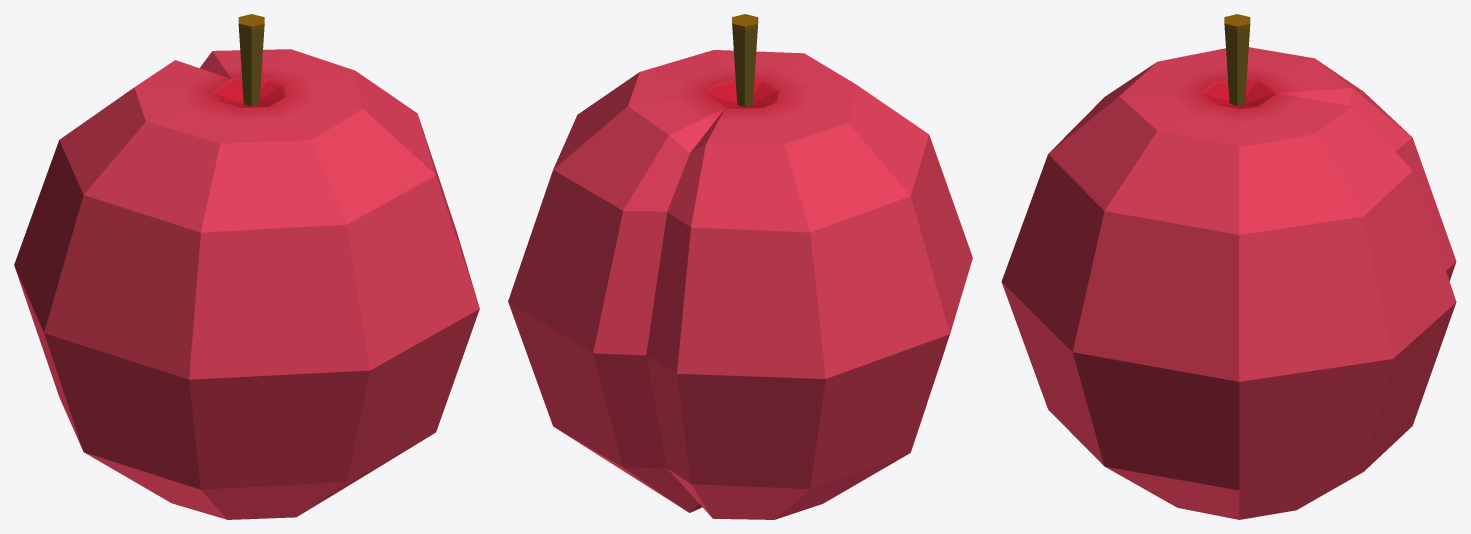
Rendered from Plum.fbx.
The picture shows the model from 3 angles, left to right: view 1: azimuth 30°, elevation 25°; view 2: azimuth 150°, elevation 25°; view 3: azimuth 270°, elevation 25°; orthographic projection.
Visible parts, largest first — view 1: Plum_All, Plum_Piece; view 2: Plum_All, Plum_Piece; view 3: Plum_All, Plum_Piece.
Boxes of the visible parts, x1=… form: Plum_All: x1=14, y1=14, x2=479, y2=519; Plum_Piece: x1=86, y1=18, x2=478, y2=515; Plum_All: x1=508, y1=14, x2=972, y2=519; Plum_Piece: x1=644, y1=14, x2=908, y2=192; Plum_All: x1=1001, y1=14, x2=1456, y2=519; Plum_Piece: x1=1002, y1=14, x2=1239, y2=519.
Bounding box in the file's own units: 6.47 × 7.02 × 6.22.
